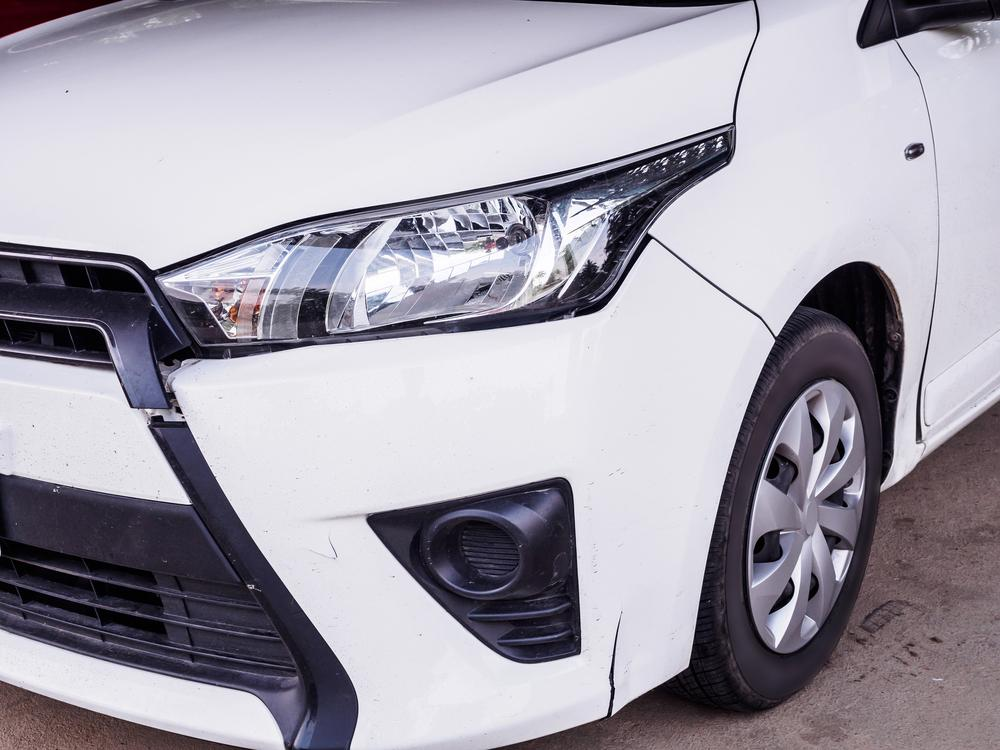crack: (607, 605, 623, 716)
